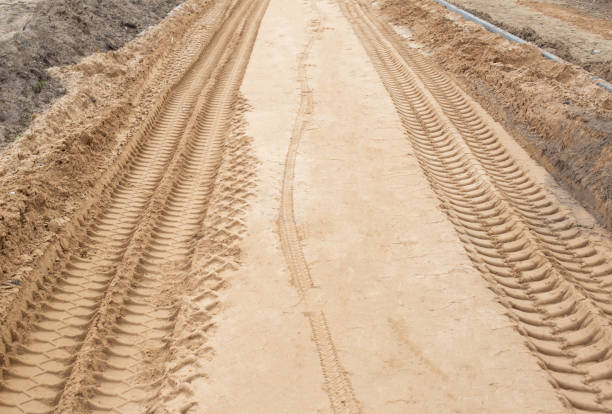vehicle_track: (340, 1, 611, 411), (0, 1, 250, 412), (89, 0, 265, 412), (278, 19, 361, 413)
